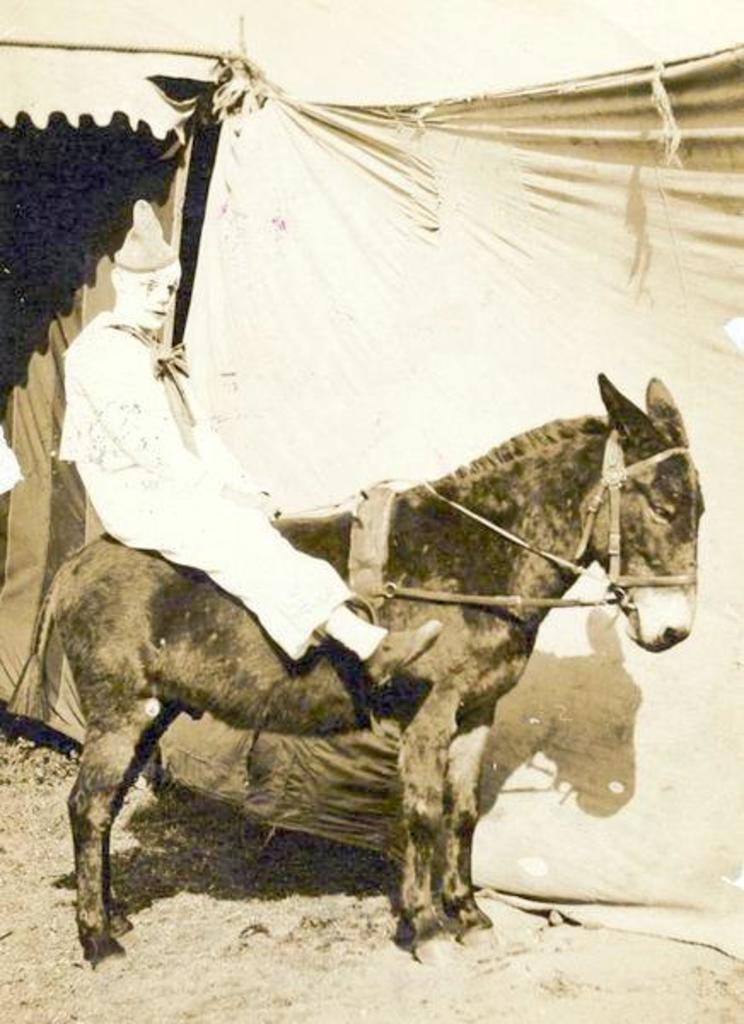Person: (57, 199, 444, 686)
